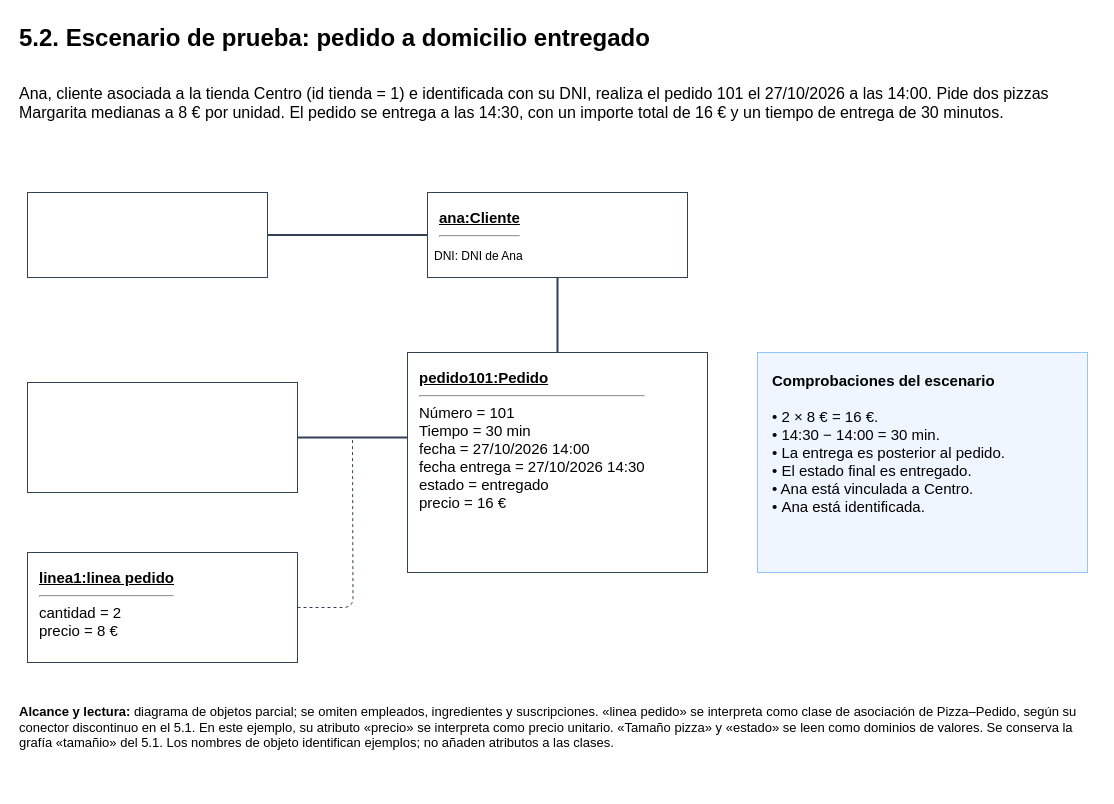
This 1114x804 diagram has some shape labels left out. Here are the shapes that lost their labels. From the top down, the centre of each, then its label:
point 147,235: centro:Tienda id tienda = 1
point 162,437: margaritaMediana:Pizza tamaño = mediano precio = 8 €
